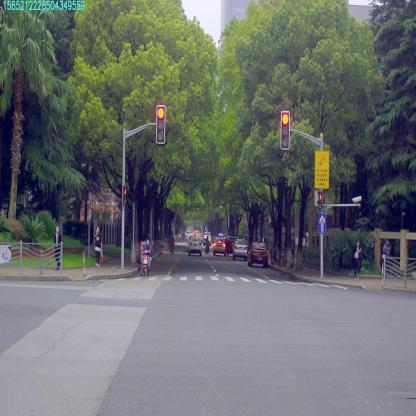traffic-light: (281, 111, 289, 149), (157, 106, 164, 142)
